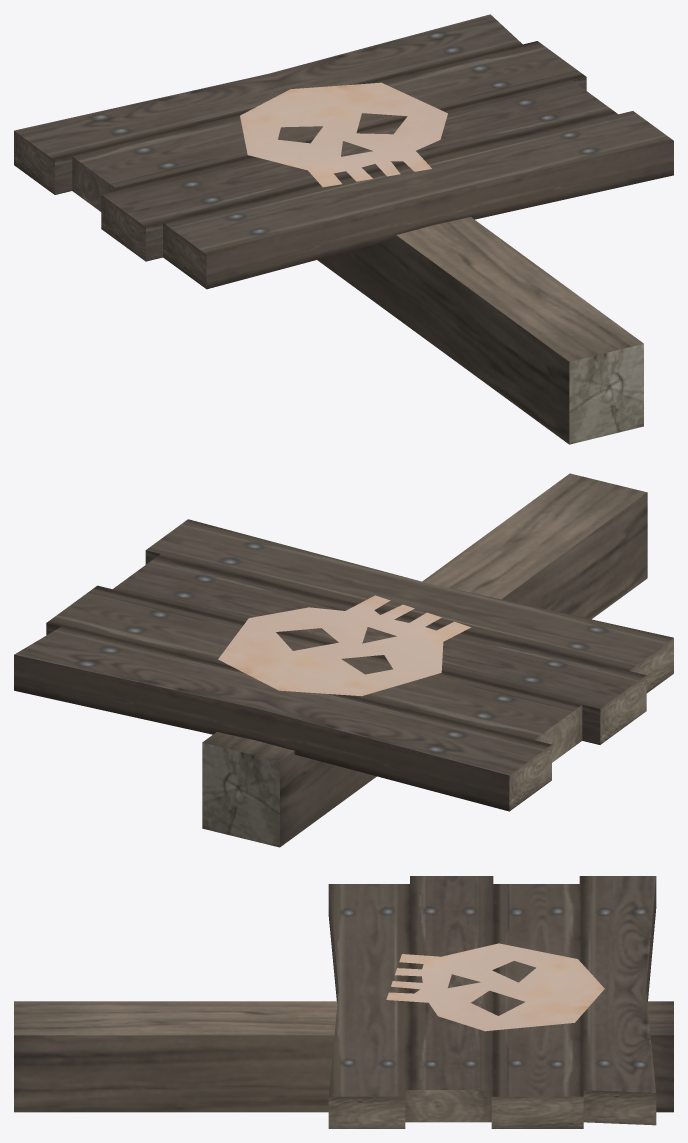
File: Board_A.fbx
3 views of the same model, one above another, from view 1: azimuth 30°, elevation 25°; view 2: azimuth 150°, elevation 25°; view 3: azimuth 270°, elevation 25° (orthographic). The views are drawn at different scales.
Visible parts, largest first — view 1: Board_A; view 2: Board_A; view 3: Board_A.
Part boxes in pixels (x1,y1,x2,y2): Board_A: (14,14,673,444); Board_A: (14,473,673,847); Board_A: (14,876,673,1128).
Size of the model in its own units: 1.29 by 0.2926 by 1.63.
